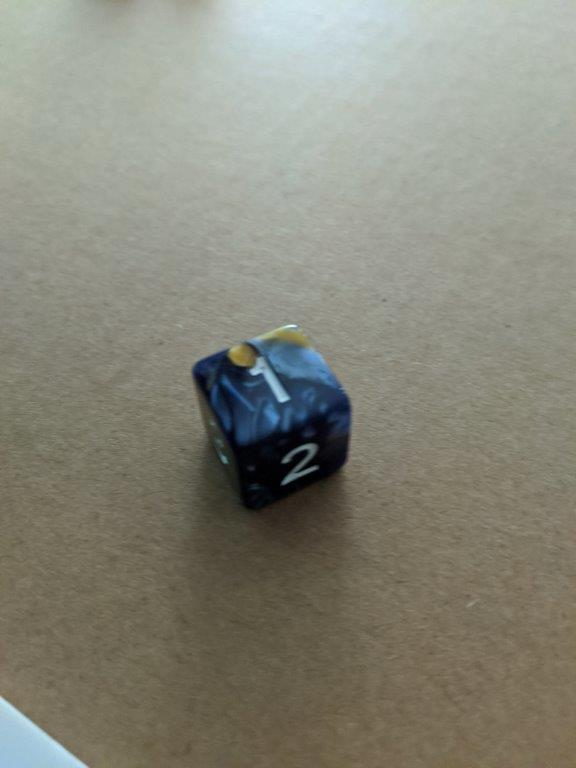d6-1: (189, 321, 353, 511)
